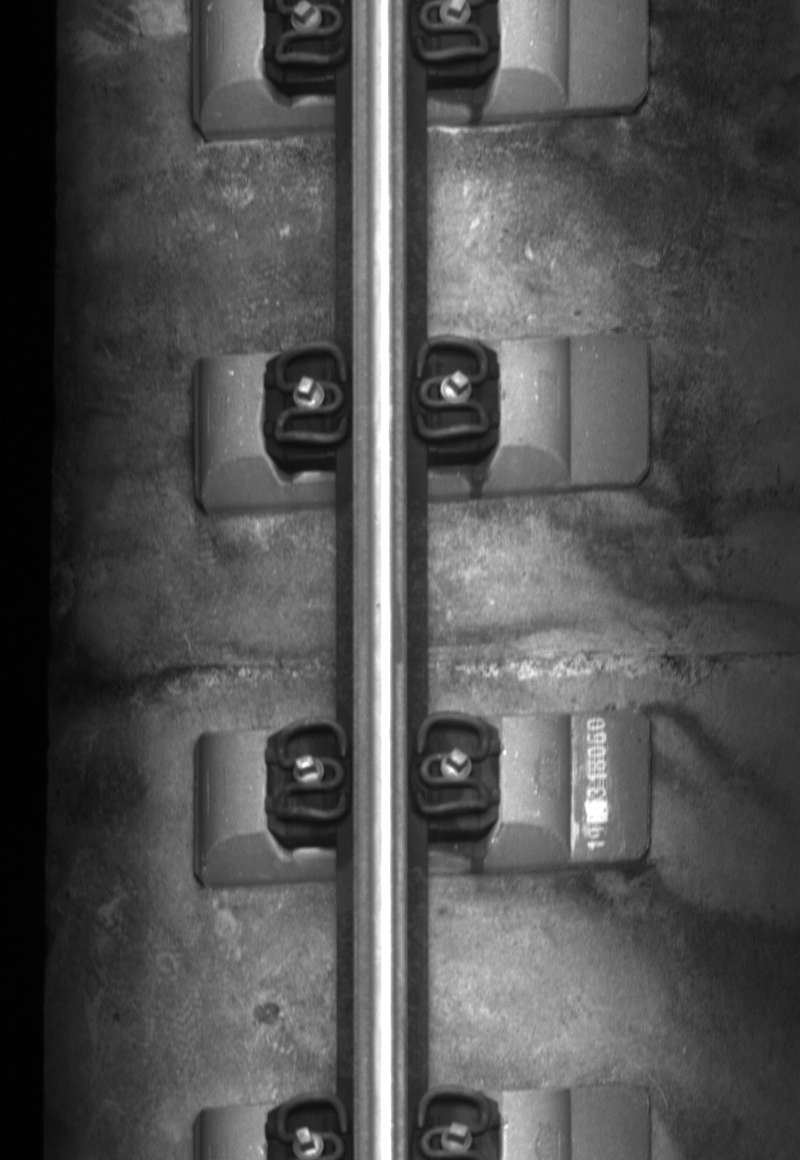l_faster: (267, 712, 352, 826), (268, 336, 351, 452)
r_faster: (409, 708, 494, 826), (409, 331, 495, 447)
